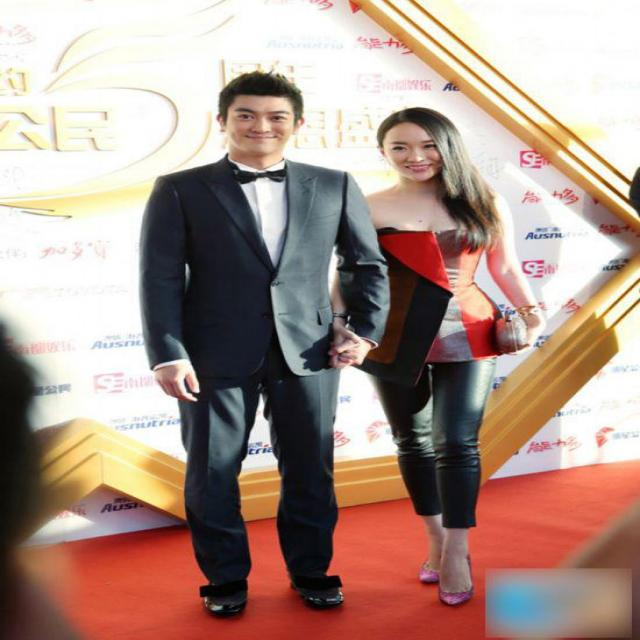Manusia: (117, 62, 390, 629), (335, 104, 525, 626)
